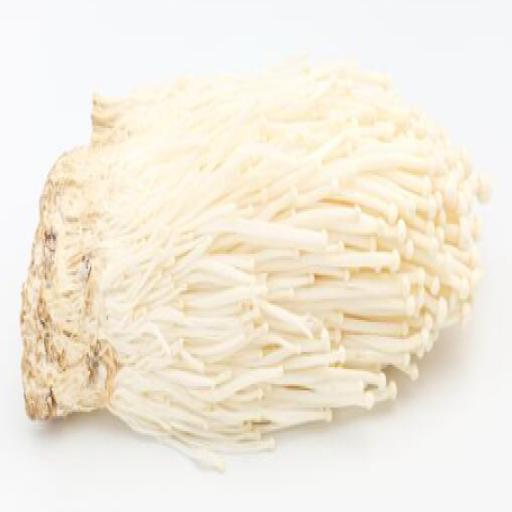Enoki Mushroom: (2, 6, 512, 504)
